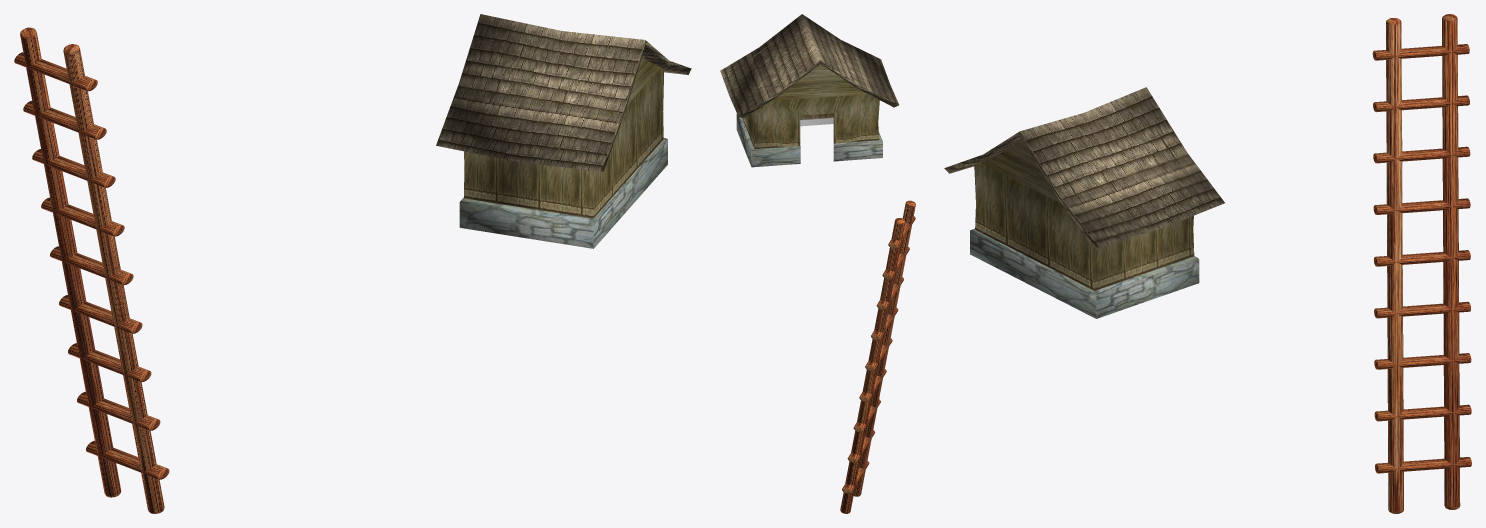
File: lom_model6.fbx
3 renders of one model, left to right at view 1: azimuth 30°, elevation 25°; view 2: azimuth 150°, elevation 25°; view 3: azimuth 270°, elevation 25°, orthographic. The views are drawn at different scales.
Visible parts, largest first — view 1: chatka6, zebrik6; view 2: chatka6, zebrik6; view 3: chatka6, zebrik6.
Boxes of the visible parts, bbox=[...] form: chatka6: bbox=[436, 14, 691, 248]; zebrik6: bbox=[14, 27, 169, 513]; chatka6: bbox=[720, 14, 898, 167]; zebrik6: bbox=[840, 200, 915, 513]; chatka6: bbox=[944, 87, 1224, 318]; zebrik6: bbox=[1372, 14, 1471, 513].
Size of the model in its own units: 3.9 by 4.27 by 3.97.
Materials: 2 (2 with a texture image).
